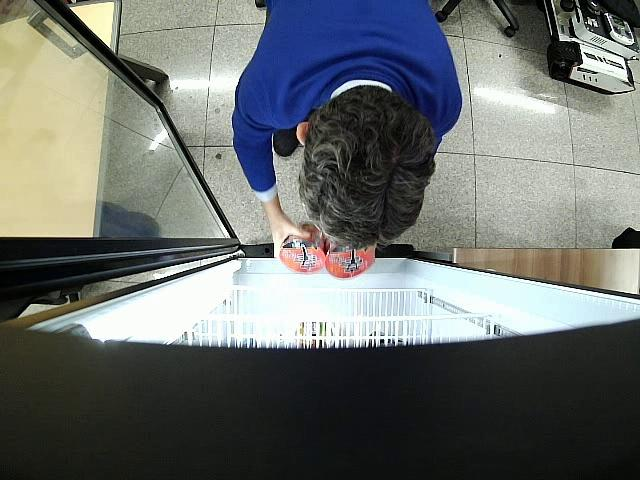00_hand: (273, 210, 312, 259)
01_shinRamen_L: (280, 222, 325, 274), (326, 236, 375, 278)
